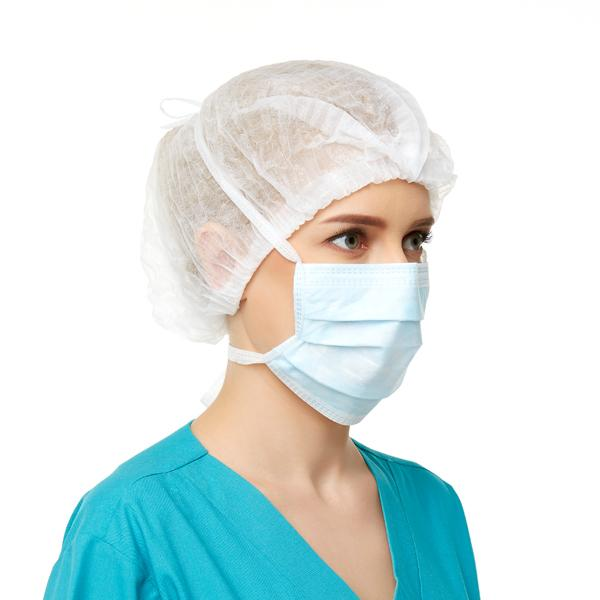Wearing Mask: (130, 50, 484, 464)
